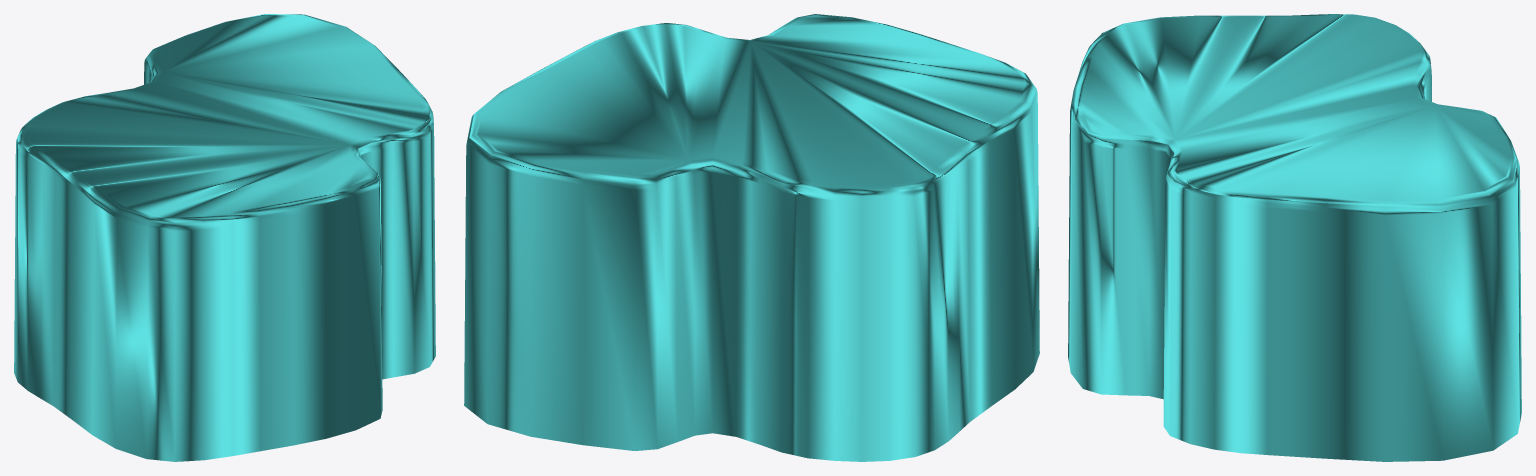
Rendered from lorville_noflyzone_suburb_redout_13.glb.
3 views of the same model, side by side, from view 1: azimuth 30°, elevation 25°; view 2: azimuth 150°, elevation 25°; view 3: azimuth 270°, elevation 25° (orthographic). The views are drawn at different scales.
Bounding box in the file's own units: 2614 × 1591 × 2556.
